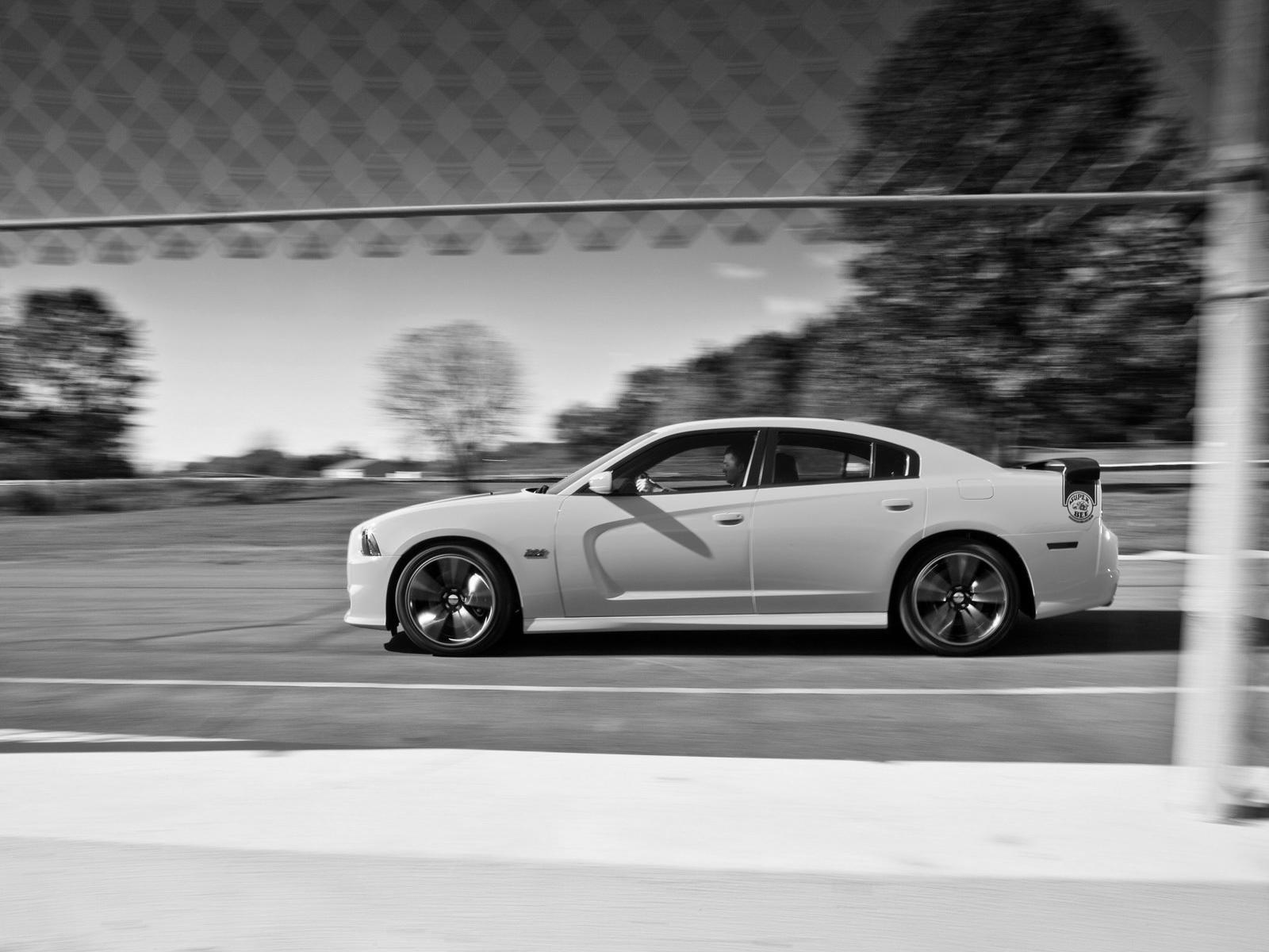car: (339, 410, 1131, 662)
